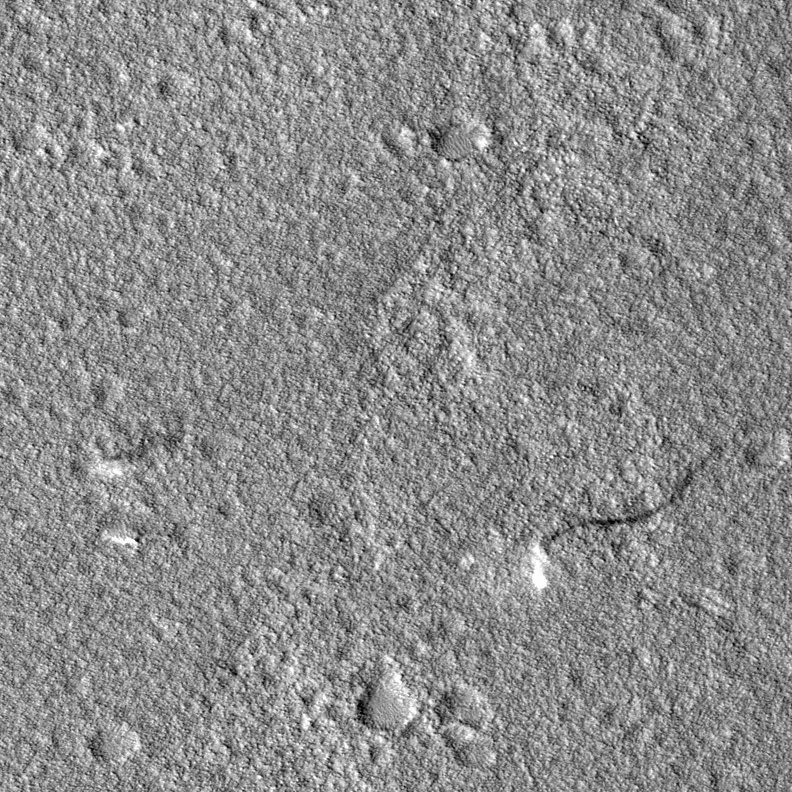dust_devil: (529, 464, 702, 591)
